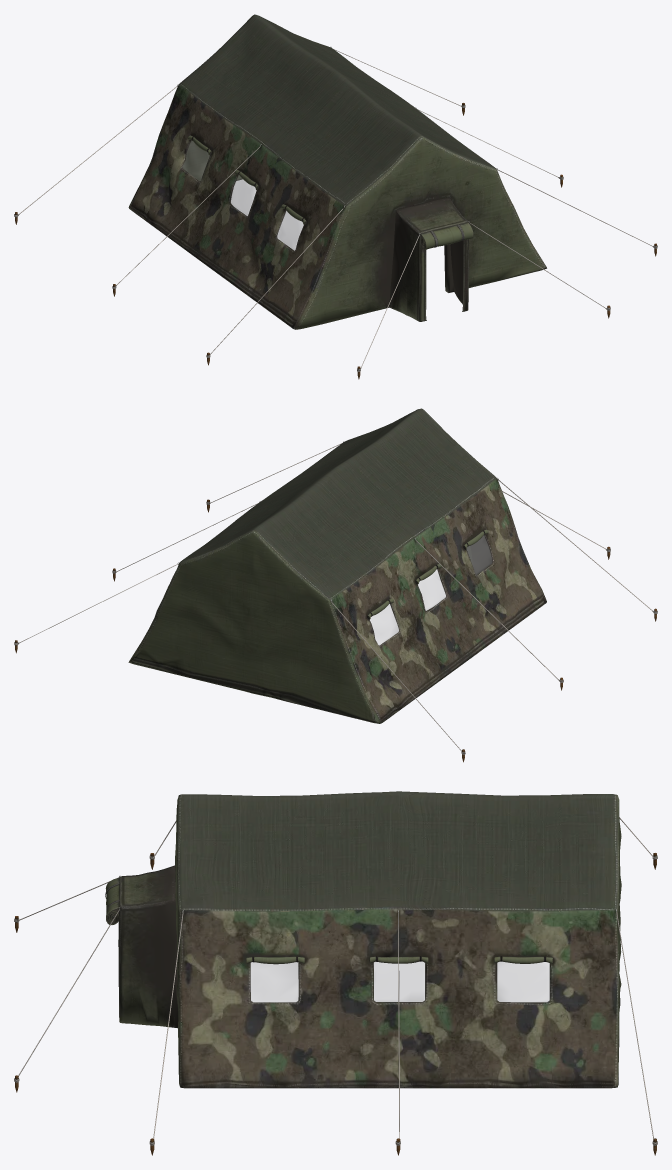
Rendered from tent_military.glb.
The picture shows the model from 3 angles, top to bottom: view 1: azimuth 30°, elevation 25°; view 2: azimuth 150°, elevation 25°; view 3: azimuth 270°, elevation 25°; orthographic projection. The views are drawn at different scales.
Parts seen in each view (by area): view 1: Military_tent, Military_tent_01_0_nocol; view 2: Military_tent, Military_tent_01_0_nocol; view 3: Military_tent, Military_tent_01_0_nocol.
Part boxes in pixels (x1=…): Military_tent: x1=18, y1=14, x2=652, y2=367; Military_tent_01_0_nocol: x1=14, y1=46, x2=657, y2=379; Military_tent: x1=19, y1=408, x2=652, y2=750; Military_tent_01_0_nocol: x1=14, y1=441, x2=657, y2=762; Military_tent: x1=17, y1=791, x2=654, y2=1138; Military_tent_01_0_nocol: x1=14, y1=853, x2=657, y2=1155.
Size of the model in its own units: 11.17 by 4 by 10.55.
Materials: 2 (1 with a texture image).
